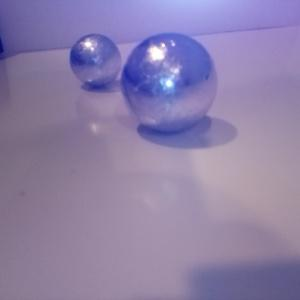alive_ball: (121, 33, 218, 134), (69, 32, 122, 87)
